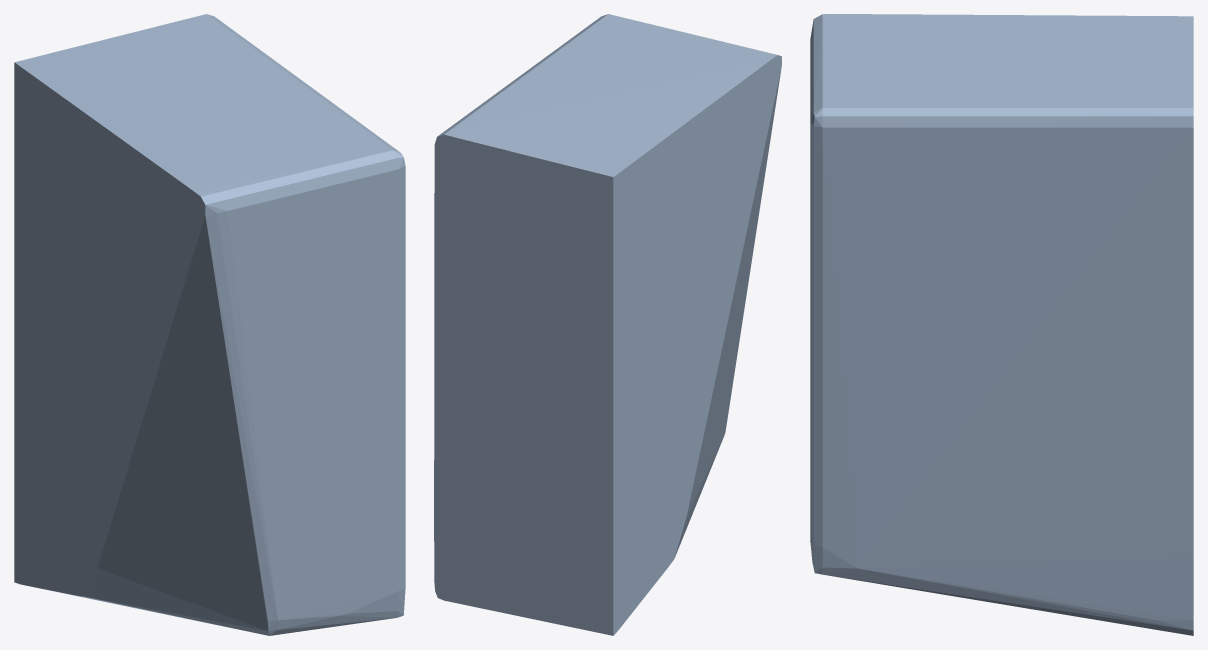
File: right_palm_part_6.obj
The picture shows the model from 3 angles, left to right: view 1: azimuth 30°, elevation 25°; view 2: azimuth 150°, elevation 25°; view 3: azimuth 270°, elevation 25°; orthographic projection. The views are drawn at different scales.
Bounding box in the file's own units: 10.6 × 26.31 × 17.36.
